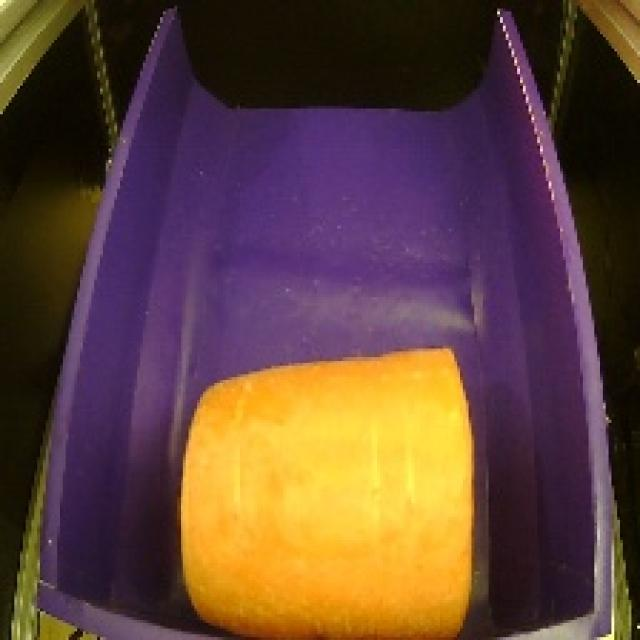carrots: (160, 334, 486, 640)
